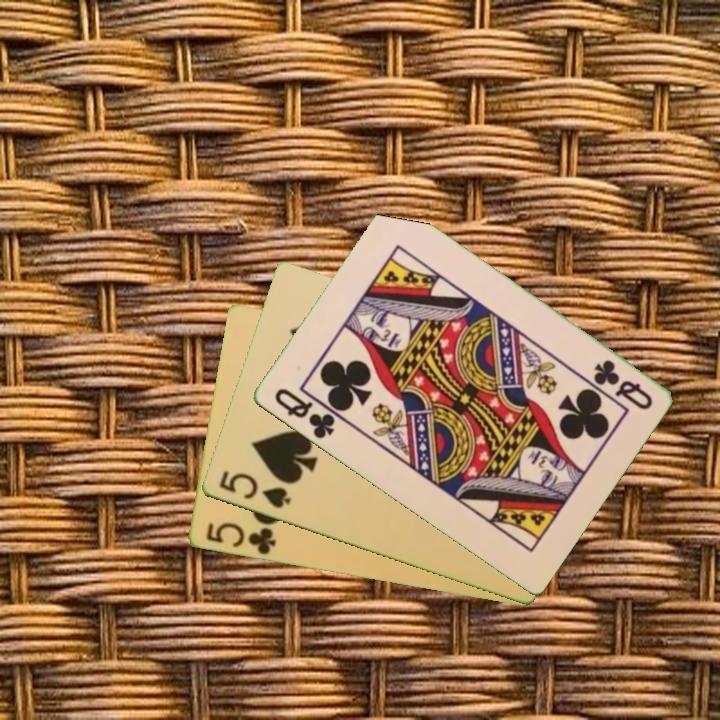5c: (202, 519, 279, 558)
5s: (215, 467, 294, 512)
Qc: (270, 384, 338, 442), (589, 356, 656, 413)
